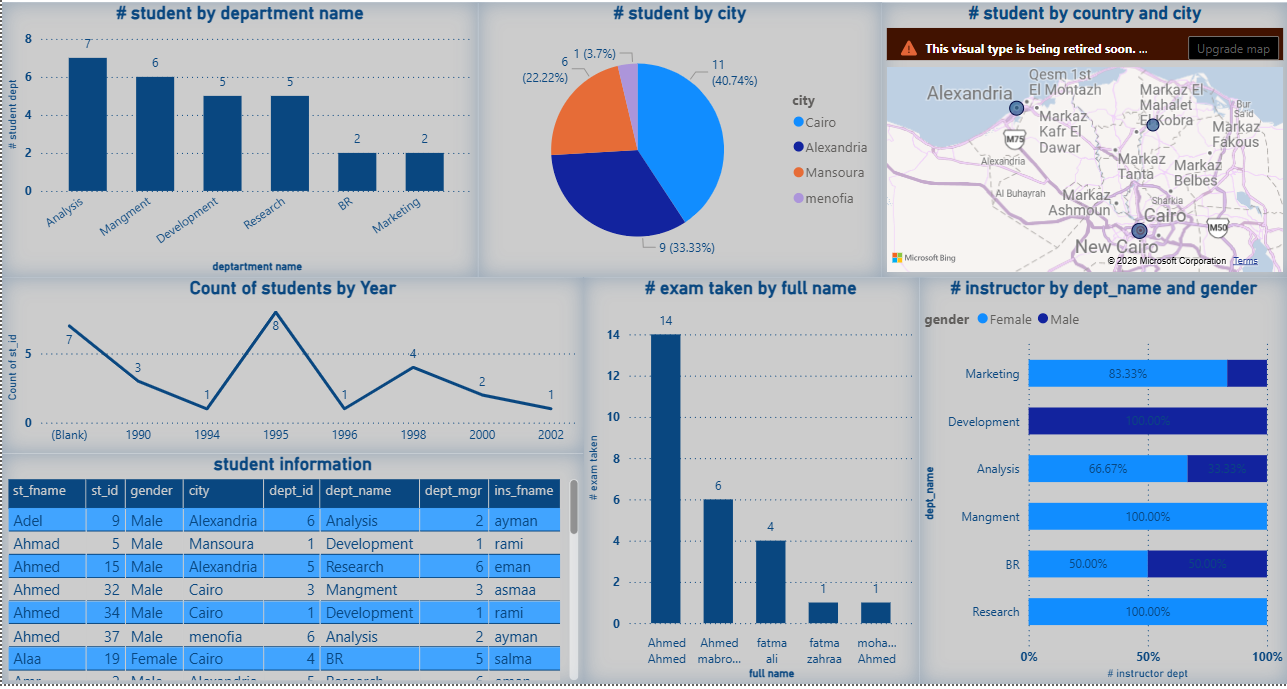

What the dashboard file says about the page in this screenshot:
{"tool":"powerbi","page":{"name":"student","canvas":[1280,720],"ordinal":0},"visuals":[{"type":"clusteredColumnChart","title":"# student by department name","fields":{"Category":["department.dept_name"],"Y":["_measures.# student dept"]},"box":[0,41,474,273.8],"z":0},{"type":"pieChart","fields":{"Y":["_measures.# student"],"Category":["student.city"]},"box":[474,41,401.6,273.8],"z":1000},{"type":"map","fields":{"Size":["_measures.# student"],"Category":["student.country Hierarchy.country","student.country Hierarchy.city"]},"box":[875.6,41,404,273.8],"z":2000},{"type":"clusteredColumnChart","fields":{"Y":["_measures.# exam taken"],"Category":["student.full name"]},"box":[578.9,314.8,334.1,405.2],"z":3000},{"type":"tableEx","title":"student information","fields":{"Values":["student.st_fname","student.st_id","student.gender","student.city","department.dept_id","department.dept_name","department.dept_mgr","instructor.ins_fname"]},"box":[0,489.6,578.9,230.4],"z":4000},{"type":"qnaVisual","box":[904.5,314.8,375.1,405.2],"z":4002},{"type":"lineChart","title":"Count of students by Year","fields":{"Category":["student.st_datebirth.Variation.Date Hierarchy.Year","student.st_datebirth.Variation.Date Hierarchy.Quarter","student.st_datebirth.Variation.Date Hierarchy.Month","student.st_datebirth.Variation.Date Hierarchy.Day"],"Y":["CountNonNull(student.st_id)"]},"box":[0,314.8,578.9,174.9],"z":4003}]}

Visuals, with their boxes on the page's 1280x720 design canvas (x1, y1, x2, y2). These are canvas units, not pixel positions in the 1287x689 screenshot, which may show the page scaled, cropped or inside an application window:
"# student by department name" clusteredColumnChart: 0/41/474/315
pieChart - _measures.# student x student.city: 474/41/876/315
map - _measures.# student x student.country Hierarchy.country: 876/41/1280/315
clusteredColumnChart - _measures.# exam taken x student.full name: 579/315/913/720
"student information" tableEx: 0/490/579/720
qnaVisual: 904/315/1280/720
"Count of students by Year" lineChart: 0/315/579/490
